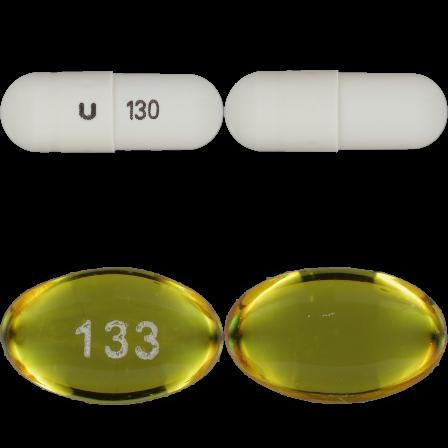75921-130: (0, 0, 224, 224)
